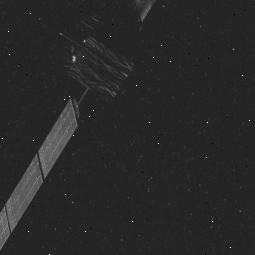smart_1: (37, 21, 149, 137)
